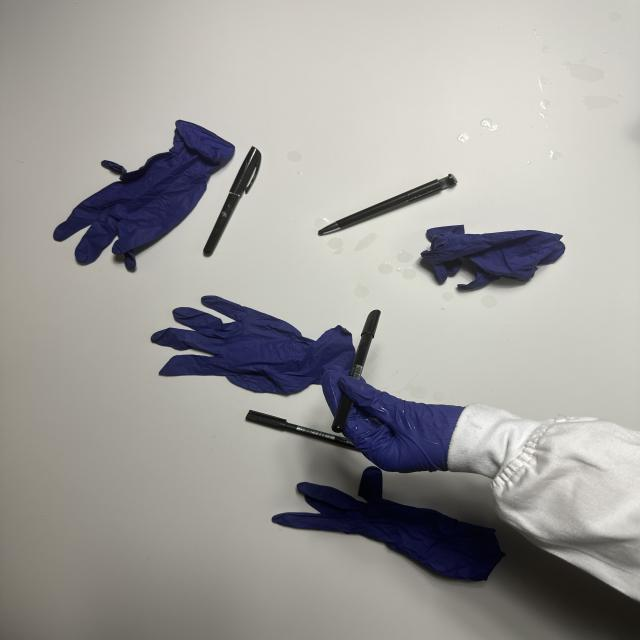gloves_contaminated: (322, 366, 464, 472)
